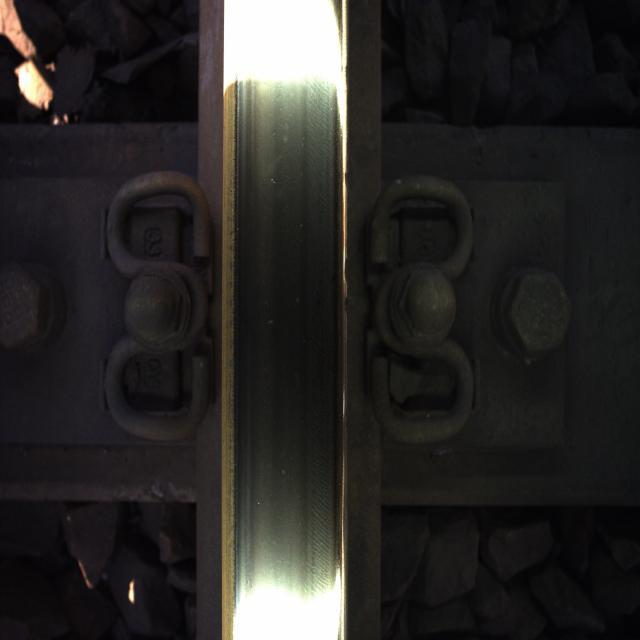break: (238, 20, 332, 626)
